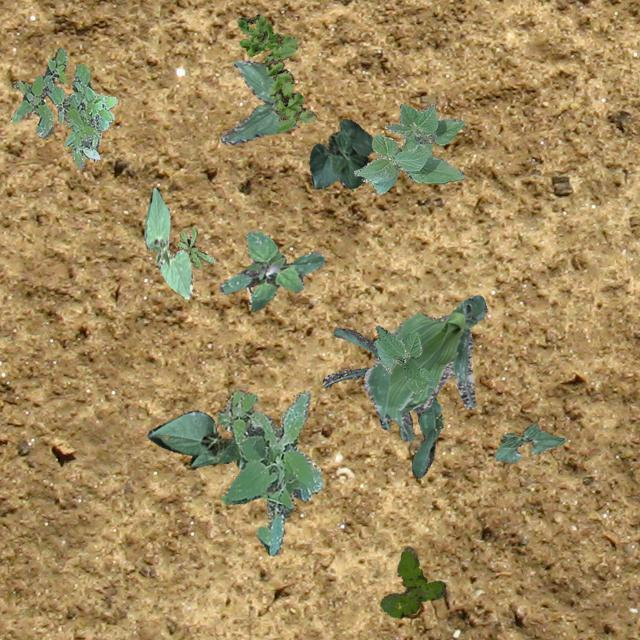crop: (322, 327, 442, 478), (362, 294, 486, 440), (352, 102, 463, 192), (146, 410, 242, 468), (144, 186, 192, 298), (220, 58, 280, 144), (372, 324, 438, 392), (308, 118, 372, 188), (494, 422, 564, 462)
weed: (216, 390, 322, 554), (12, 46, 116, 166), (237, 13, 316, 132), (218, 230, 322, 310), (380, 546, 444, 618), (177, 226, 214, 268)
